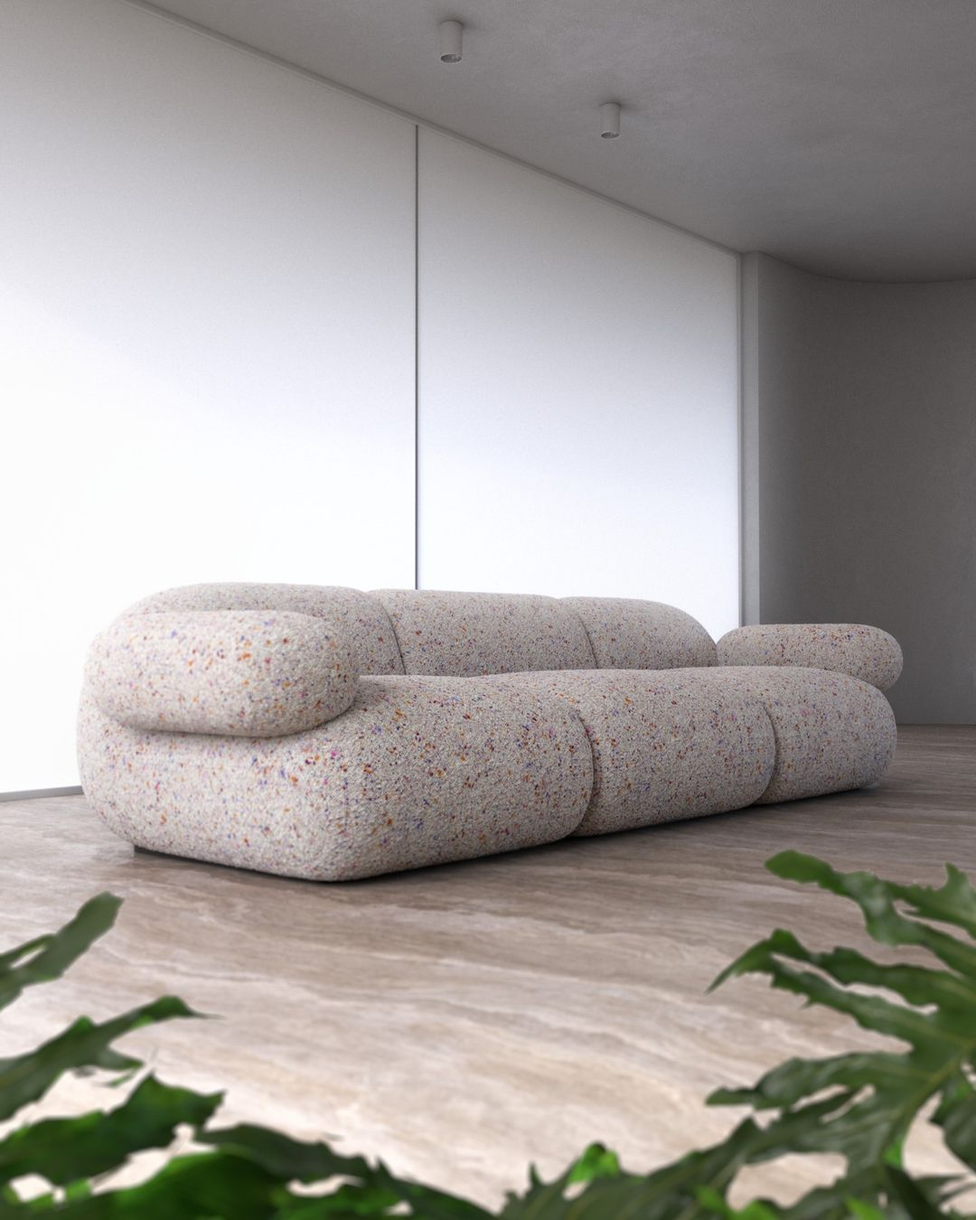backrest: (128, 584, 717, 676)
leftarmrest: (719, 623, 901, 685)
rightarmrest: (88, 610, 358, 737)
seat: (82, 666, 896, 880)
